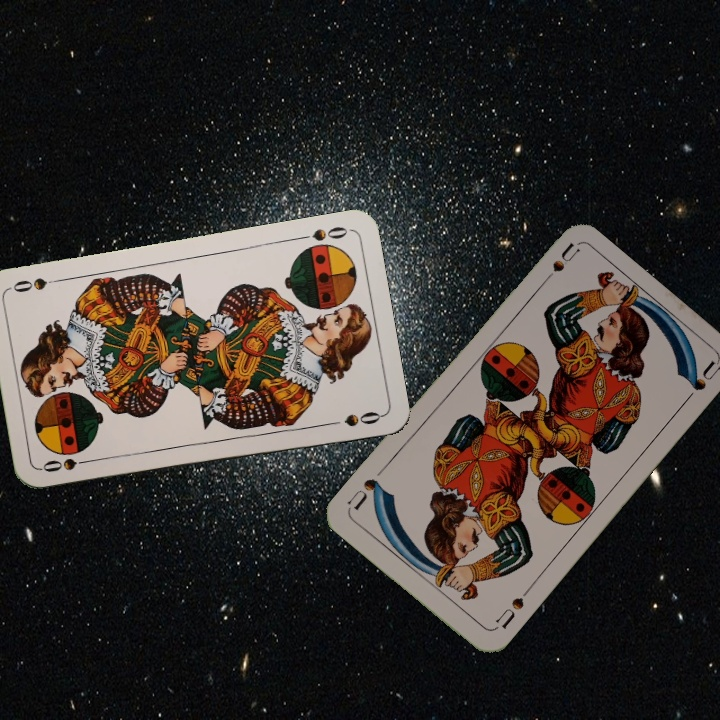SO: (293, 222, 352, 244), (38, 454, 98, 475)
SU: (534, 240, 581, 291), (490, 583, 533, 632)
